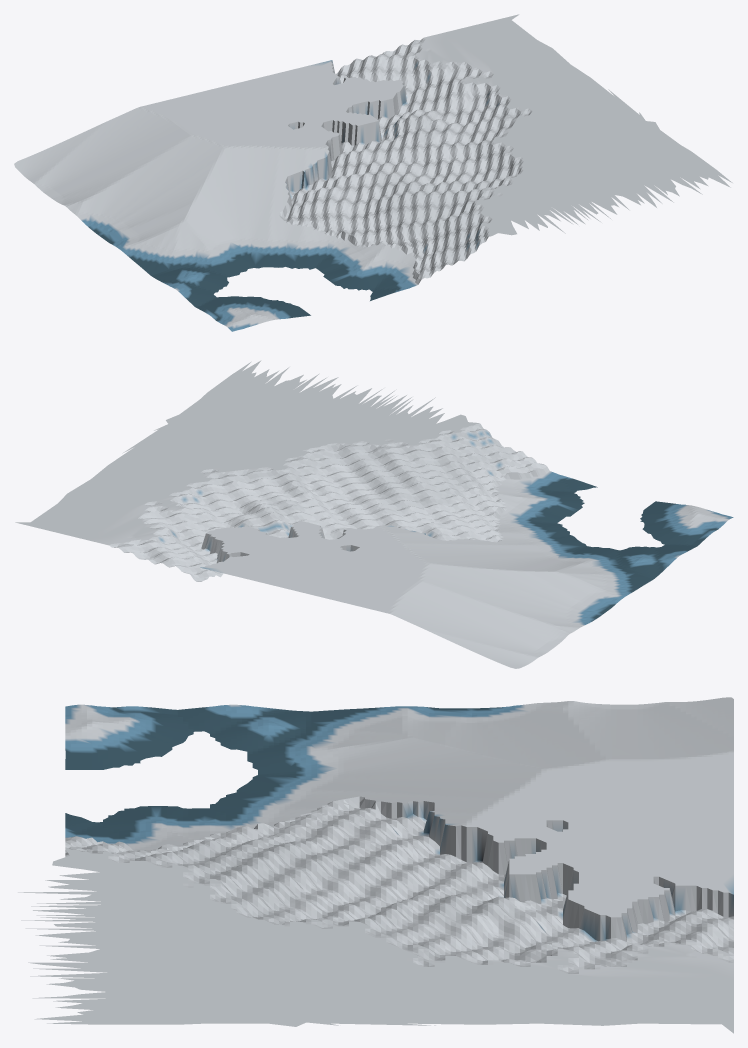
The model's file is frost_tile_x0z0.glb.
The picture shows the model from 3 angles, top to bottom: view 1: azimuth 30°, elevation 25°; view 2: azimuth 150°, elevation 25°; view 3: azimuth 270°, elevation 25°; orthographic projection. The views are drawn at different scales.
Visible parts, largest first — view 1: geometry_0; view 2: geometry_0; view 3: geometry_0.
Part boxes in pixels (x1,y1,x2,y2): geometry_0: [14, 14, 732, 331]; geometry_0: [15, 360, 733, 668]; geometry_0: [18, 697, 733, 1033].
Bounding box in the file's own units: 999 × 67.13 × 808.
